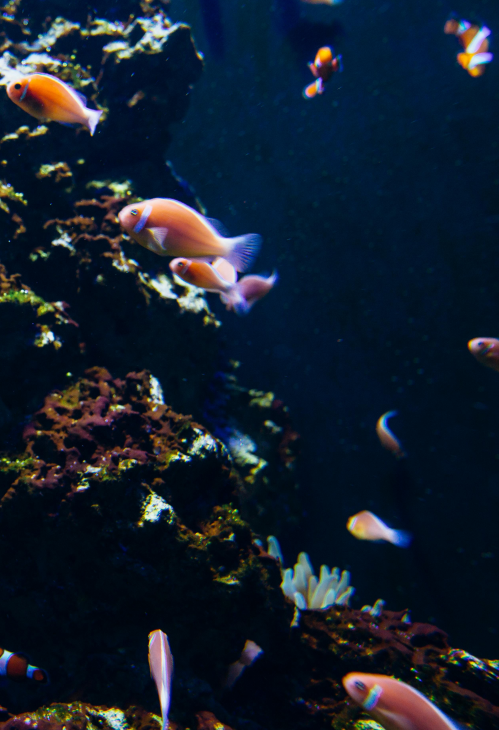fishSmall: (116, 185, 260, 274), (340, 670, 461, 730), (4, 71, 104, 136), (166, 257, 249, 317), (145, 625, 177, 730), (441, 16, 492, 79), (344, 508, 411, 548), (301, 44, 342, 103), (0, 639, 47, 682), (462, 335, 497, 369)
